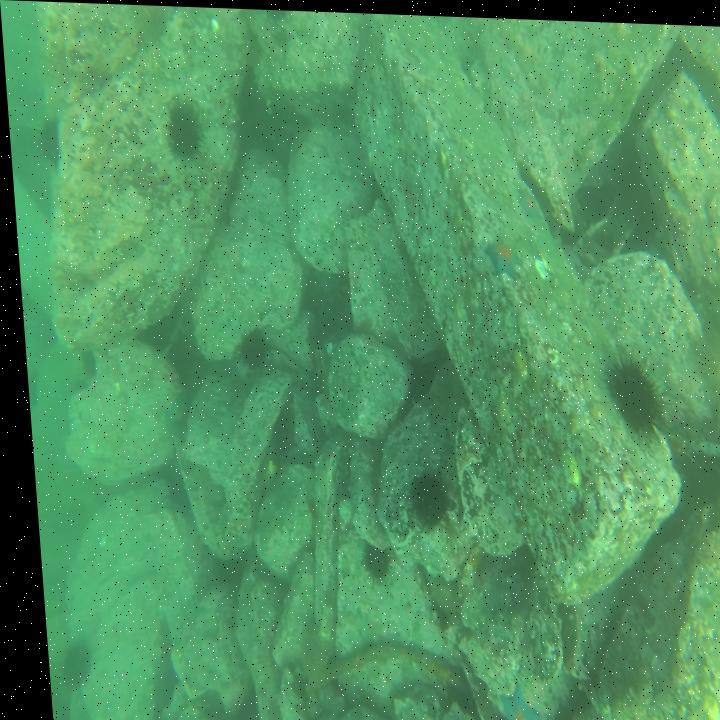echinus: (602, 355, 657, 431), (691, 329, 720, 409), (402, 471, 442, 525), (164, 97, 199, 154), (49, 642, 85, 690), (232, 325, 265, 370), (34, 115, 62, 167), (354, 540, 384, 581)
starfish: (488, 683, 533, 720), (483, 229, 516, 278), (511, 174, 538, 218)
